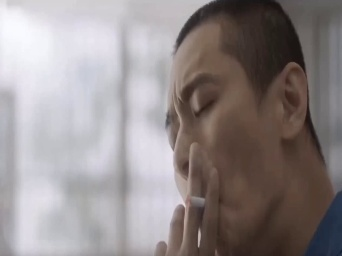smoke: (185, 193, 206, 206)
